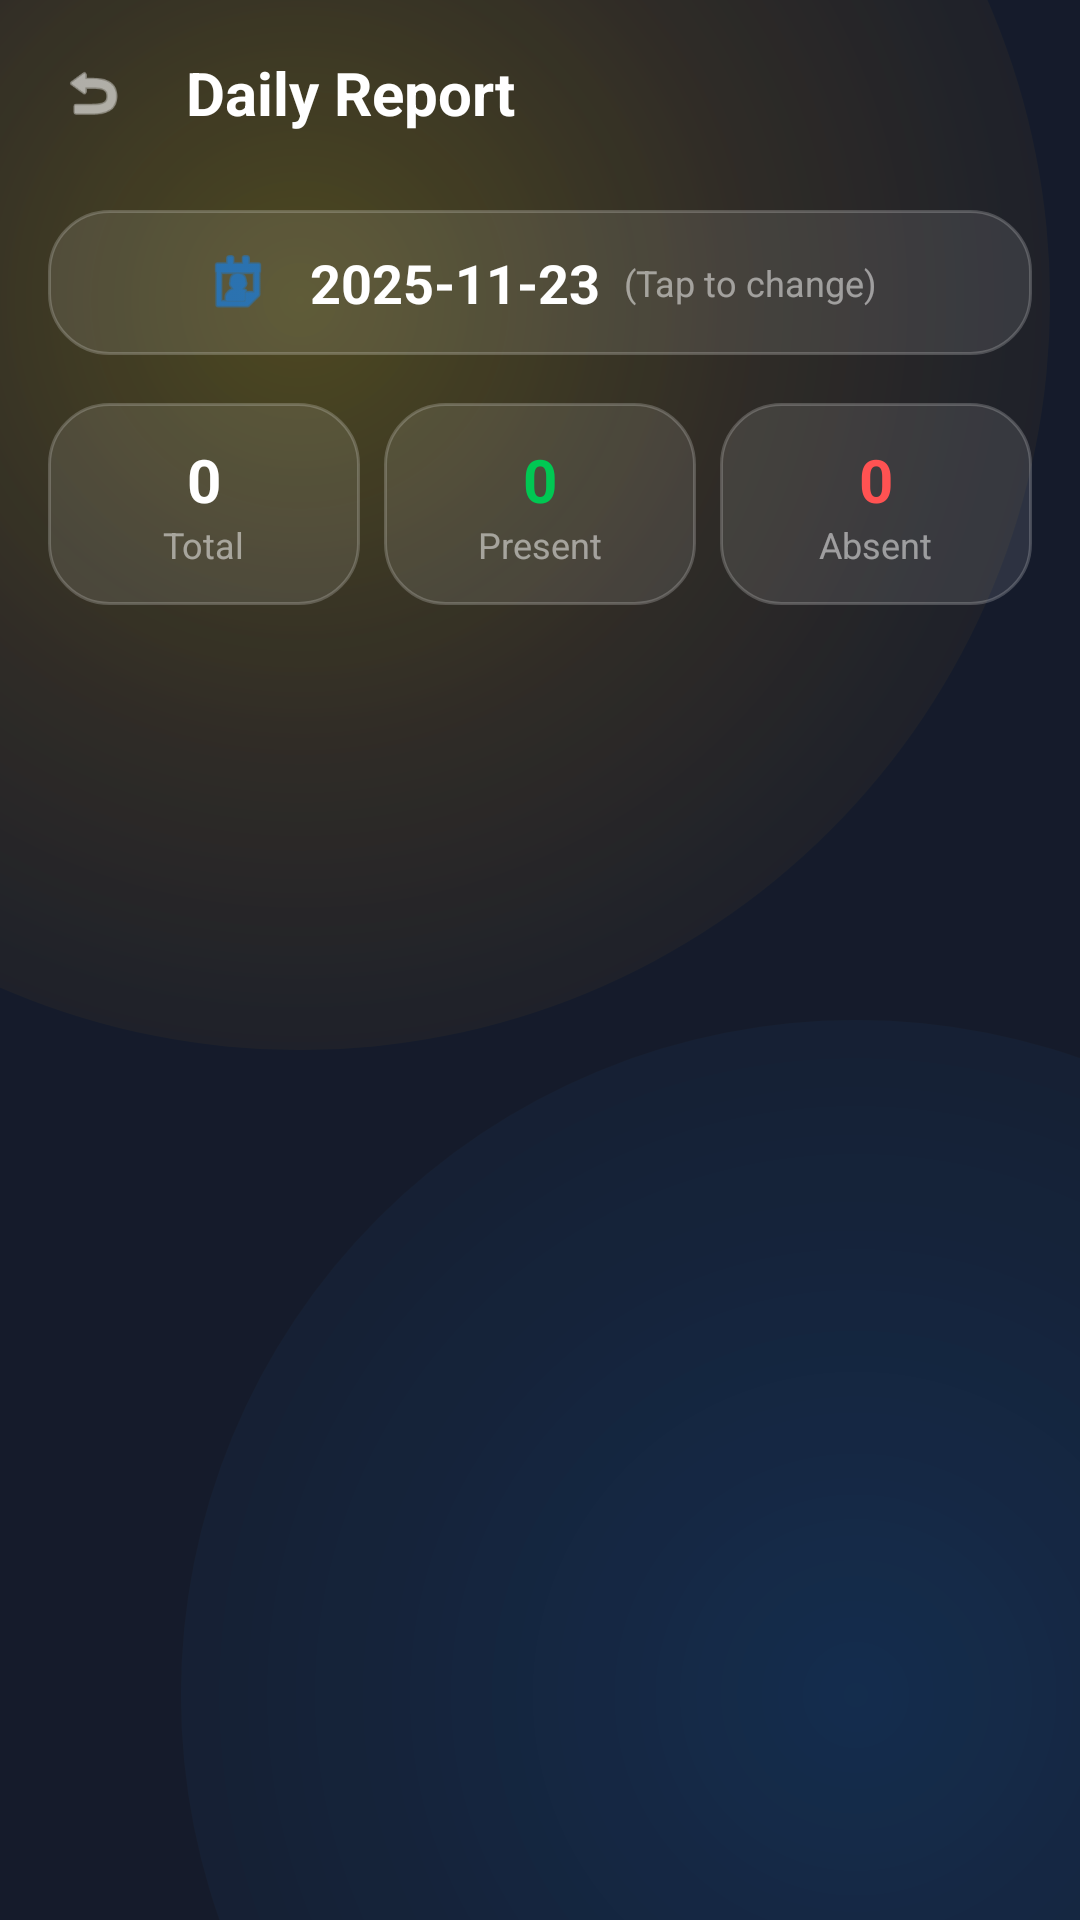

Where to tap for icons on this 1080 × 1920 app screen, as [x,y]:
calendar: [238,281]
revert: [94,93]
